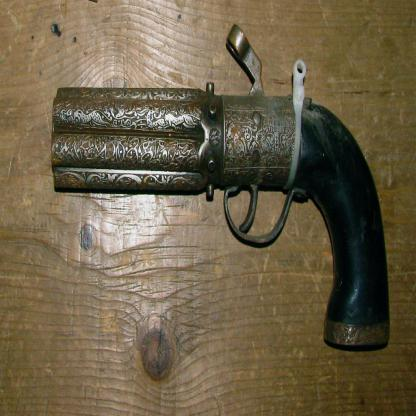Handgun: (51, 23, 390, 346)
